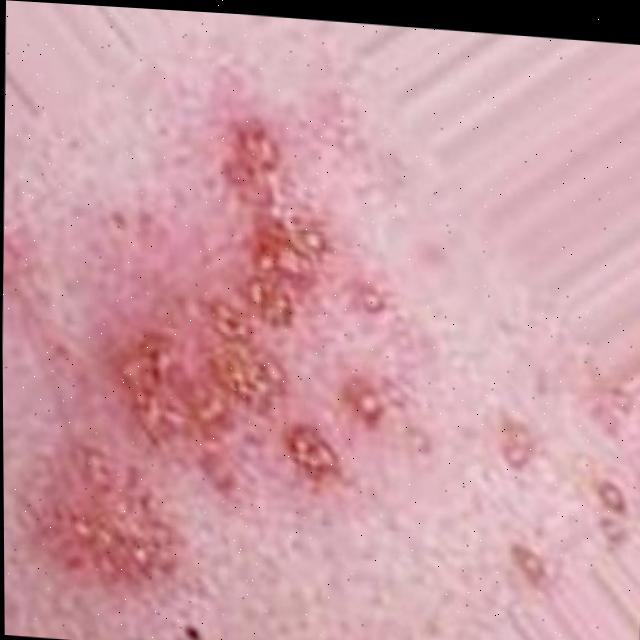Shingles: (42, 121, 334, 584)
